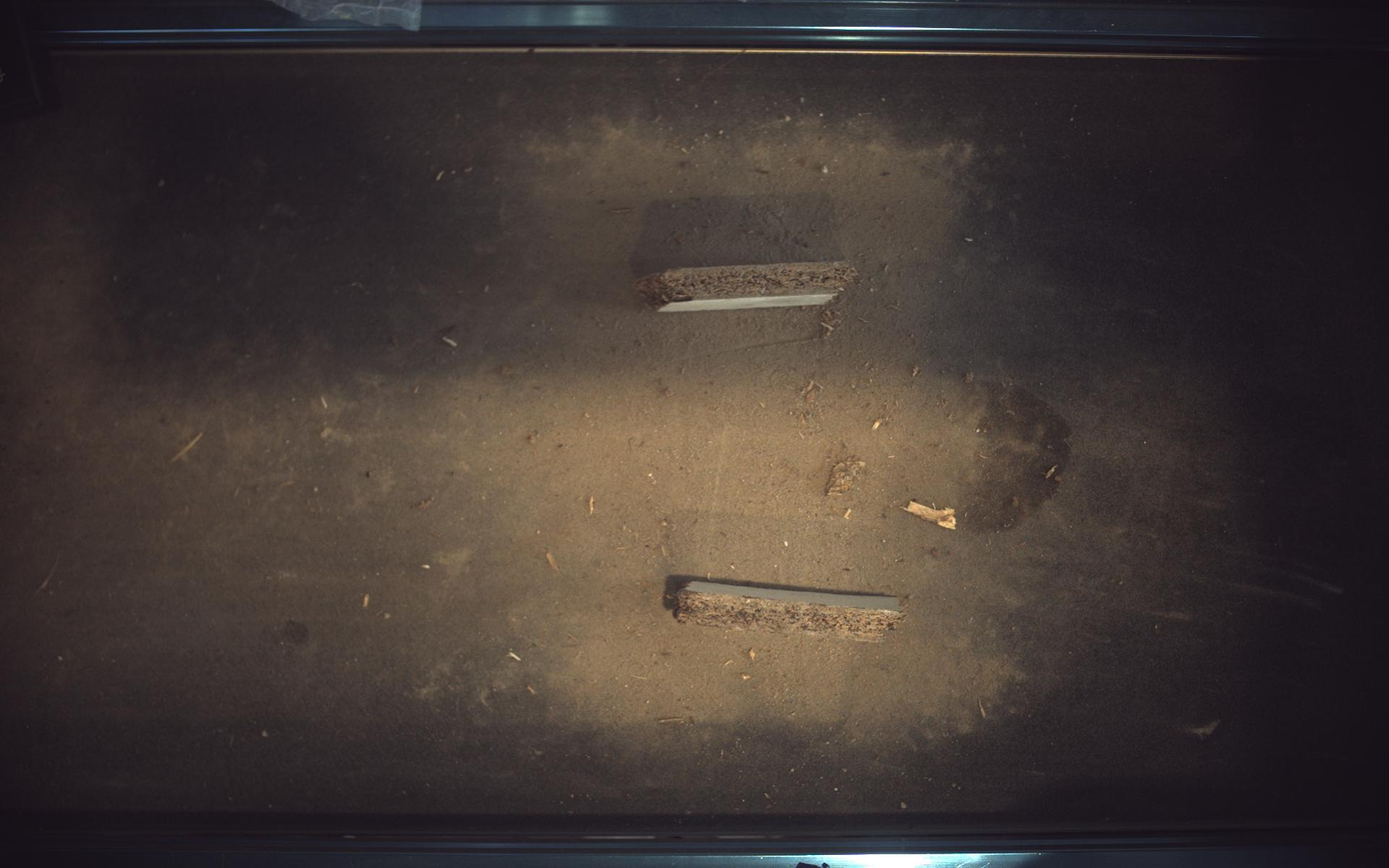wood: (676, 582, 904, 642), (637, 261, 859, 312)
